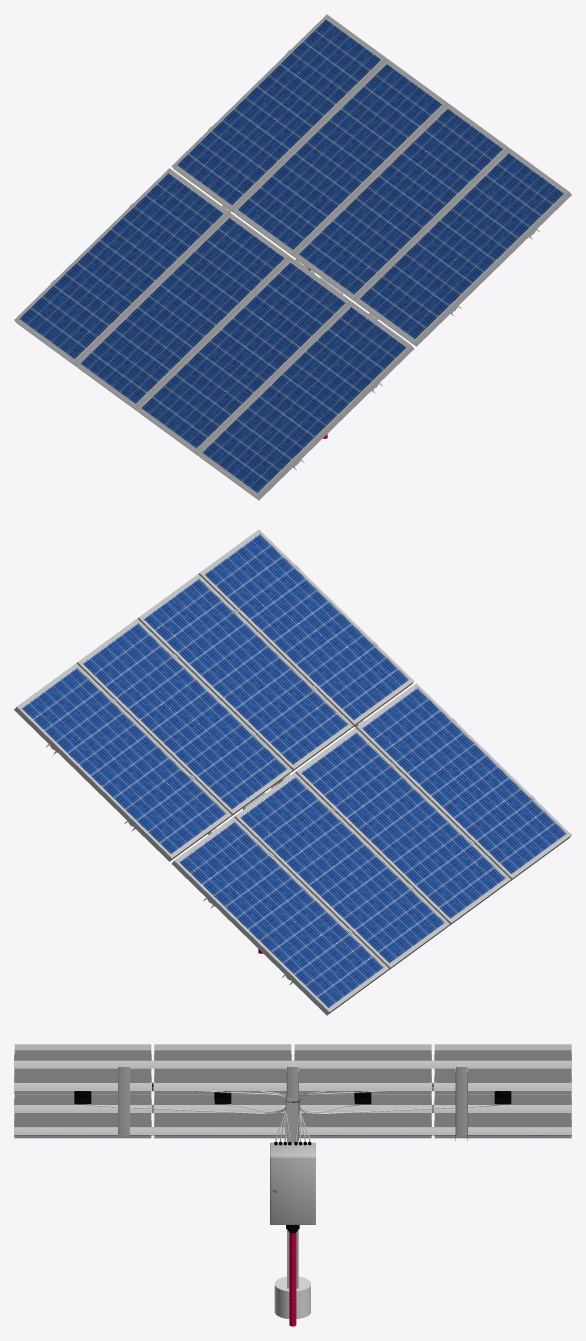
File: panel_solar_2.glb
The picture shows the model from 3 angles, top to bottom: view 1: azimuth 30°, elevation 25°; view 2: azimuth 150°, elevation 25°; view 3: azimuth 270°, elevation 25°; orthographic projection. The views are drawn at different scales.
Visible parts, largest first — view 1: Panel_solar__2_; view 2: Panel_solar__2_; view 3: Panel_solar__2_.
Part boxes in pixels (x1,y1,x2,y2): Panel_solar__2_: [14, 14, 571, 500]; Panel_solar__2_: [14, 529, 571, 1015]; Panel_solar__2_: [14, 1044, 571, 1326].
Bounding box in the file's own units: 4.54 × 4.2 × 6.06.
9 materials, 1 textured.
